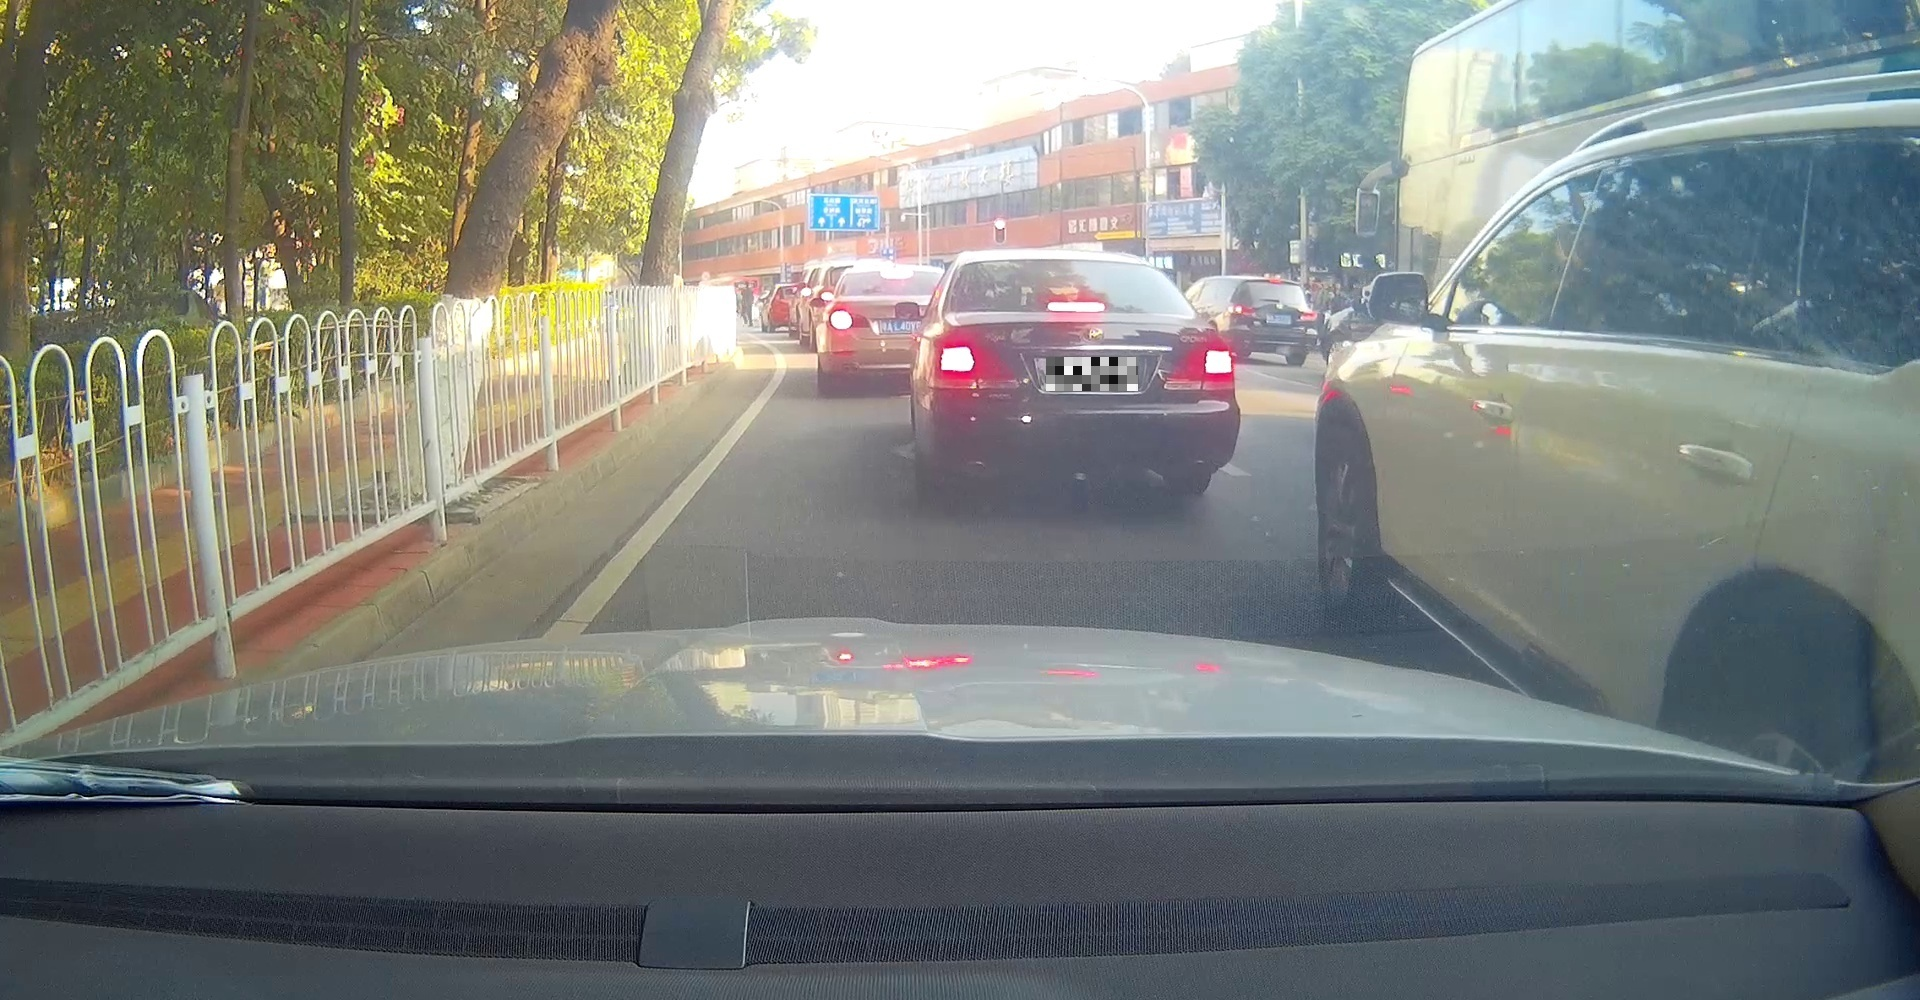L_light: (936, 341, 993, 379)
R_light: (1181, 348, 1234, 382)
T_light: (1046, 301, 1105, 313)
day-brake: (936, 249, 1234, 492)
plate_1: (1046, 357, 1138, 391)
